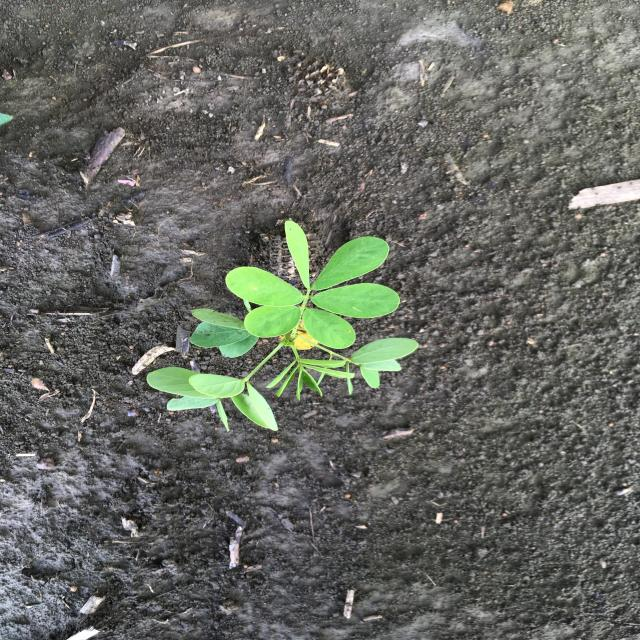Sicklepod: (144, 218, 423, 432)
